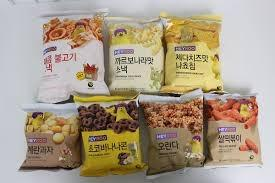snack: (33, 6, 113, 102), (73, 94, 146, 176), (159, 11, 227, 94), (143, 89, 204, 177), (103, 17, 164, 95), (204, 92, 265, 169), (20, 101, 80, 171)
